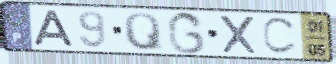9: (77, 10, 107, 49)
A: (32, 9, 77, 49)
C: (261, 16, 299, 56)
G: (166, 10, 207, 56)
Q: (122, 11, 166, 53)
X: (217, 13, 261, 56)
